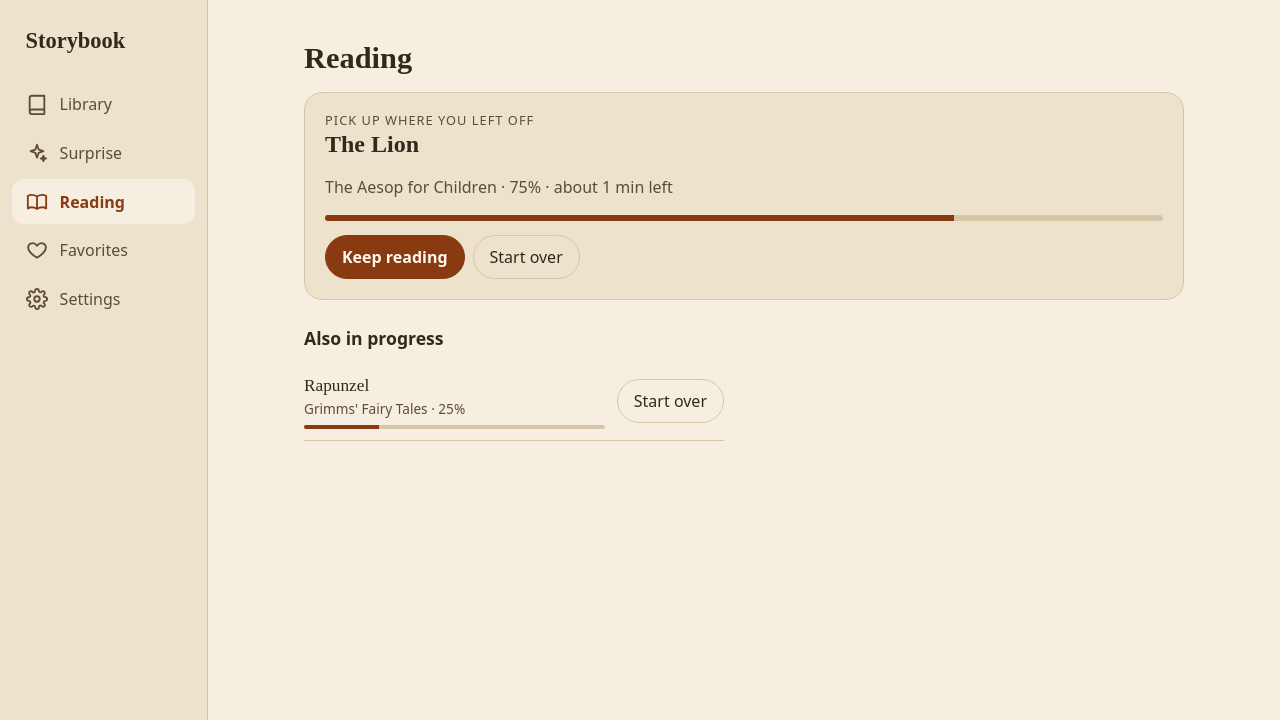
Test case: ReadingPage › offers Start over on each other story in progress
Click the button with aria-label "Start Rapunzel over" at {"x": 670, "y": 401}, box [617,379,724,423]
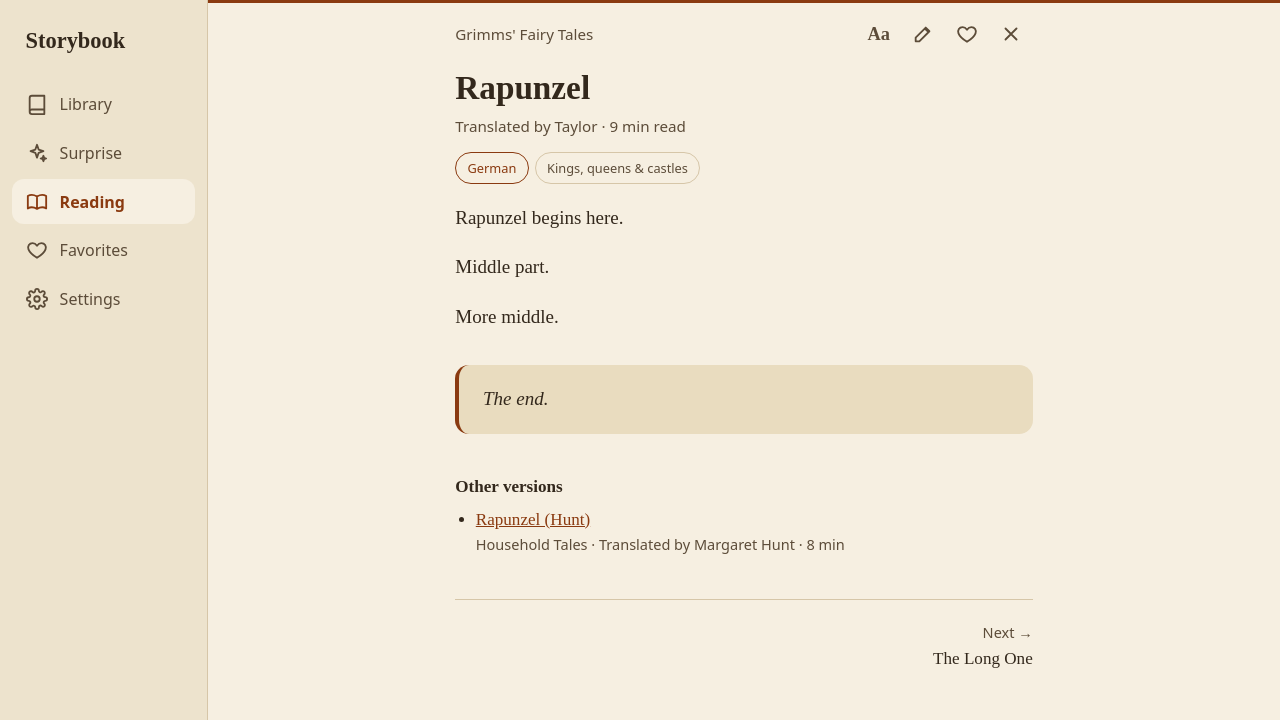
Expected: the text "Rapunzel begins here." is shown, [455,207,624,228]
